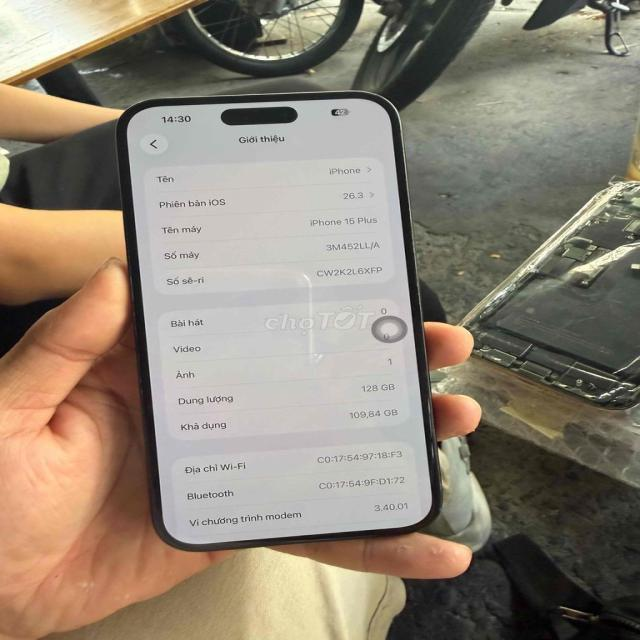gen_15: (100, 84, 480, 549)
